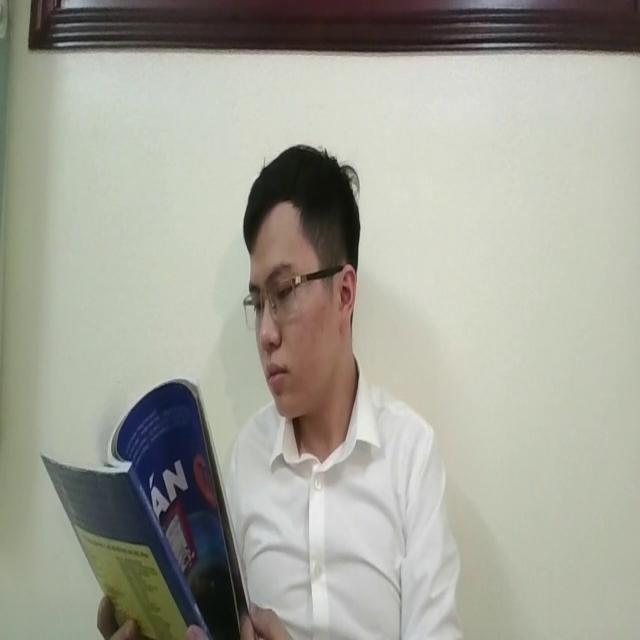book: (41, 366, 251, 640)
student: (219, 129, 463, 640)
